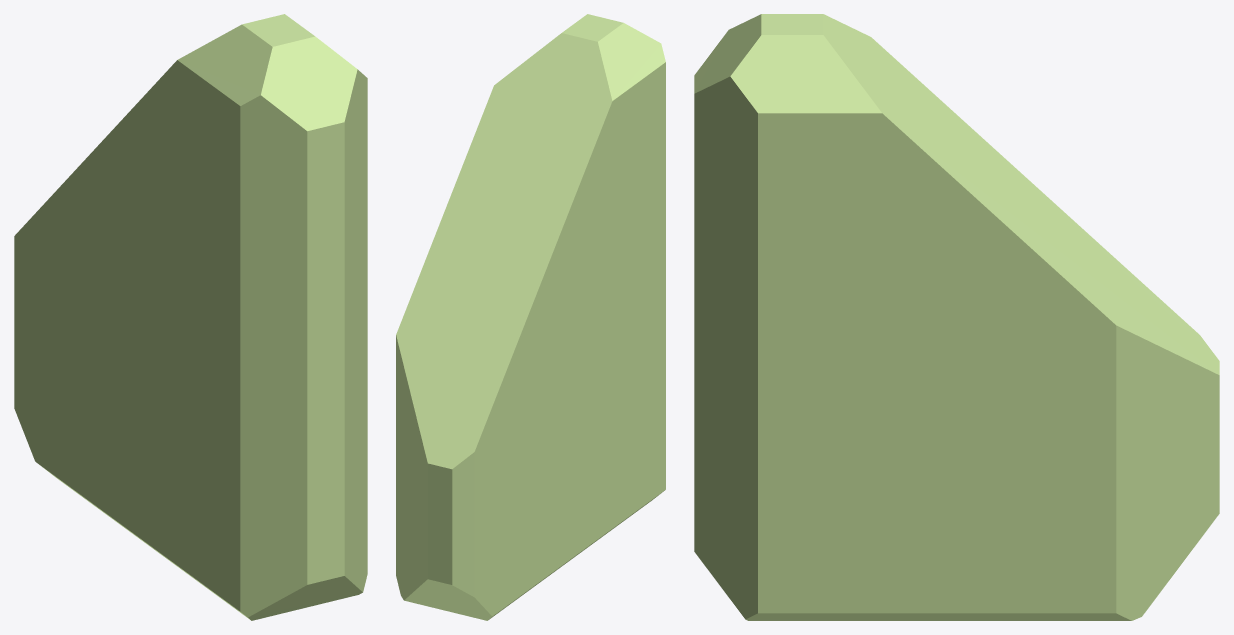
File: molotov.glb
3 renders of one model, left to right at view 1: azimuth 30°, elevation 25°; view 2: azimuth 150°, elevation 25°; view 3: azimuth 270°, elevation 25°, orthographic. The views are drawn at different scales.
Parts seen in each view (by area): view 1: S1|SM_Molotov_01#0; view 2: S1|SM_Molotov_01#0; view 3: S1|SM_Molotov_01#0.
Part boxes in pixels (x1,y1,x2,y2): S1|SM_Molotov_01#0: (14,14,367,620); S1|SM_Molotov_01#0: (396,14,665,620); S1|SM_Molotov_01#0: (694,14,1219,620).
Size of the model in its own units: 0.0769 by 0.3076 by 0.258.
